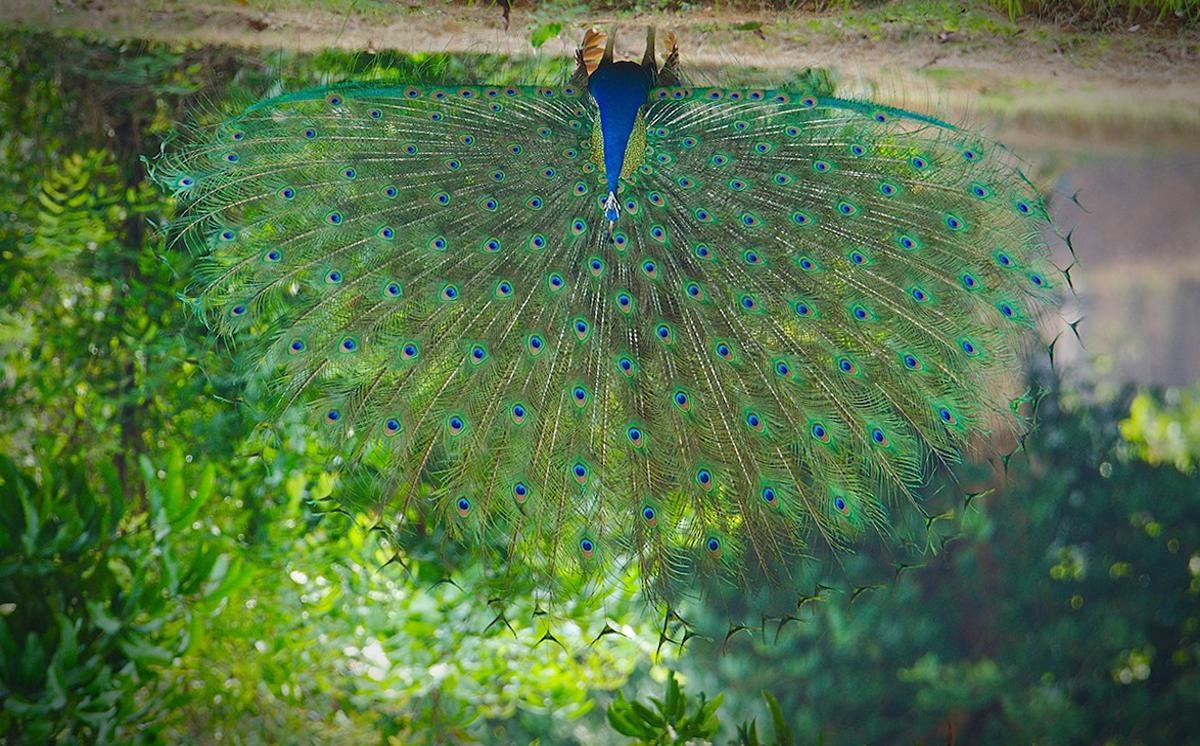peacock: (216, 35, 1059, 581)
